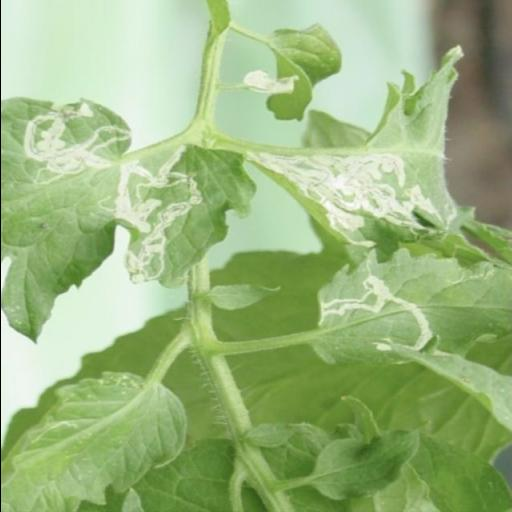disease_tomato: (0, 97, 257, 345), (248, 46, 478, 252), (315, 248, 512, 365)
